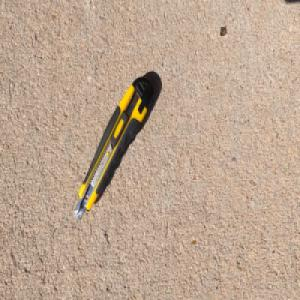Cutter: (73, 74, 154, 222)
